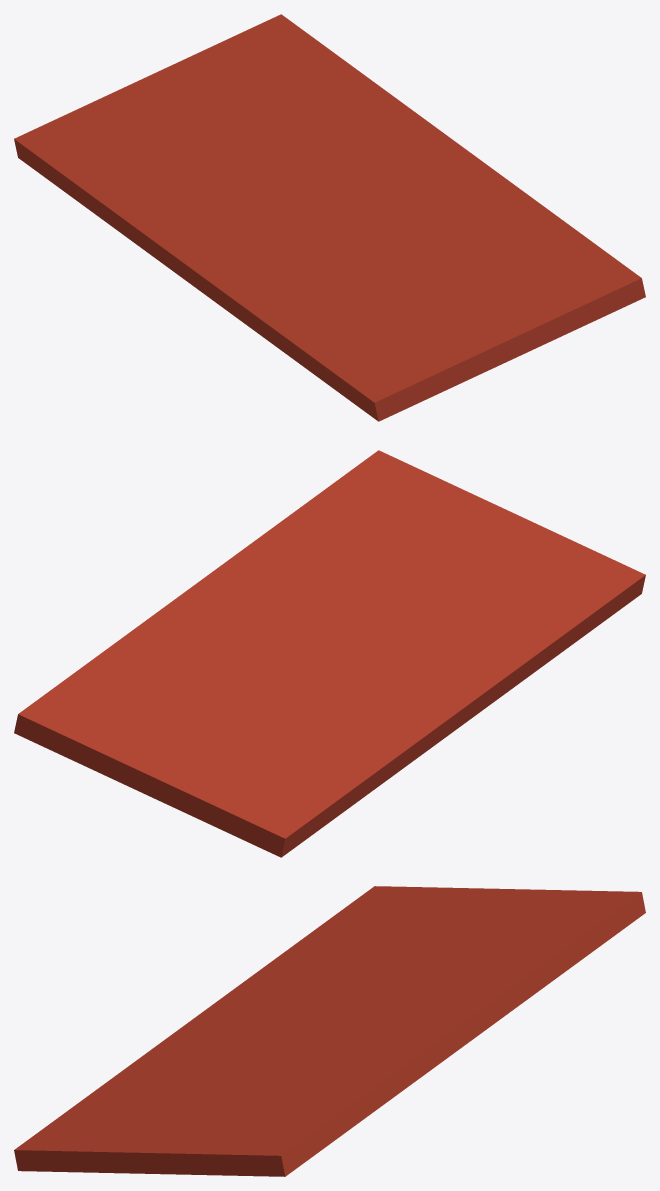
Rendered from RamenRoof.fbx.
The picture shows the model from 3 angles, top to bottom: view 1: azimuth 30°, elevation 25°; view 2: azimuth 150°, elevation 25°; view 3: azimuth 330°, elevation 25°; orthographic projection.
Parts seen in each view (by area): view 1: RamenRoof.001; view 2: RamenRoof.001; view 3: RamenRoof.001.
Part boxes in pixels (box(x1,y1,x2,y2)): RamenRoof.001: box(14, 14, 645, 421); RamenRoof.001: box(14, 450, 645, 857); RamenRoof.001: box(14, 886, 645, 1176).
Bounding box in the file's own units: 695 × 194 × 1600.
